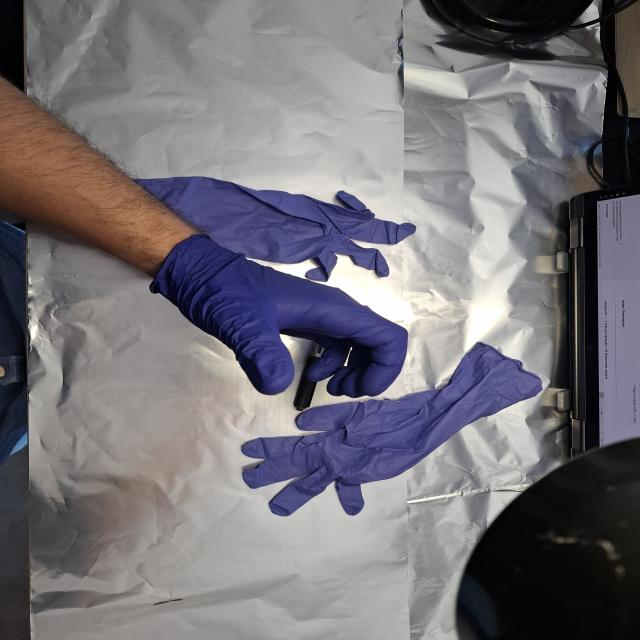glove_on: (141, 230, 413, 402)
